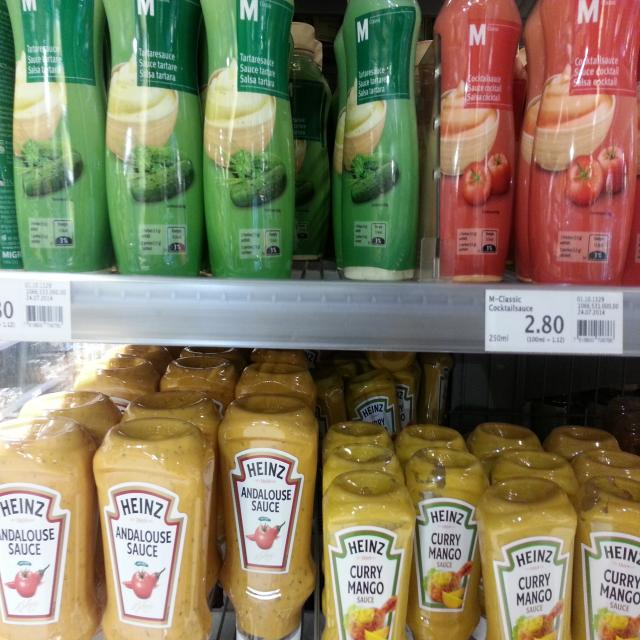Sauce: (528, 0, 640, 285), (104, 0, 204, 276), (5, 0, 106, 271), (92, 418, 215, 640), (200, 0, 294, 280), (219, 395, 318, 640), (435, 0, 521, 281), (342, 0, 421, 280), (0, 417, 98, 640), (475, 476, 575, 640), (406, 446, 490, 640), (321, 469, 415, 640), (576, 474, 640, 640)
